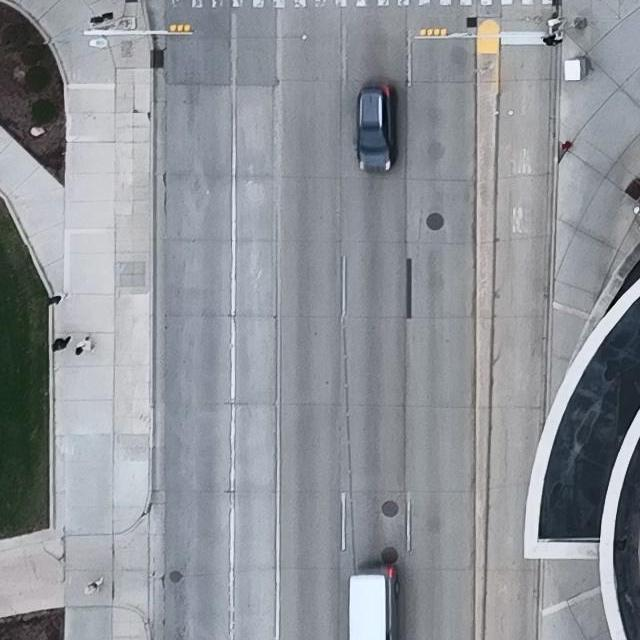car: (354, 80, 395, 174), (349, 566, 397, 640)
